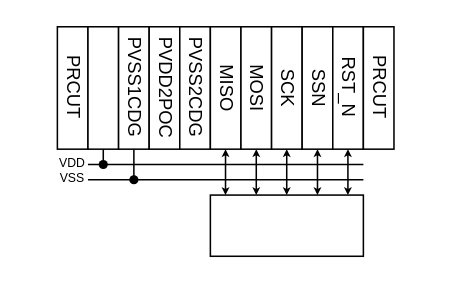
The diagram is 450 pixels wide and 295 high, and some of its shapes have lost their labels. The shapes that lost their labels are listed below. From the top down, each one's centre as x and y in pixels, then its label:
At (x=102, y=87): "PVDD1CDG".
At (x=286, y=225): "Core".
